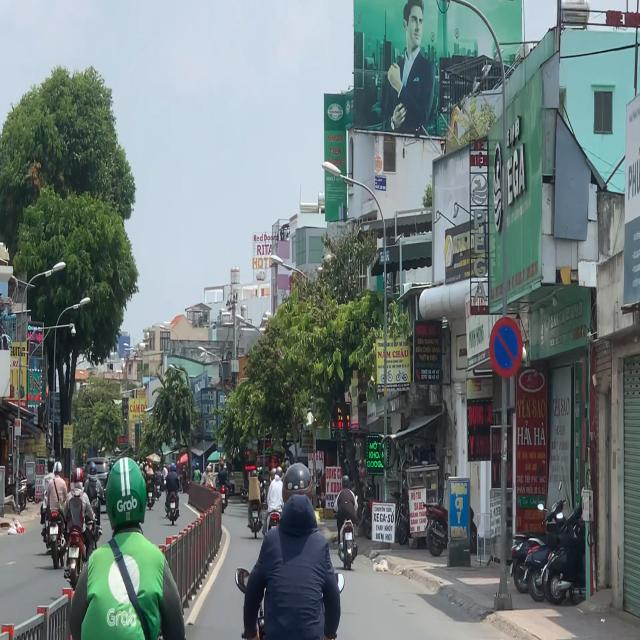Cam do: (488, 316, 524, 378)
